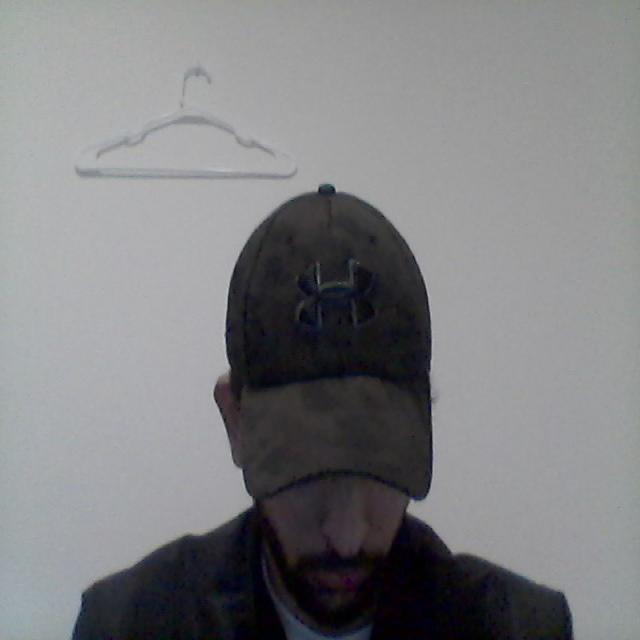cap: (186, 173, 466, 512)
